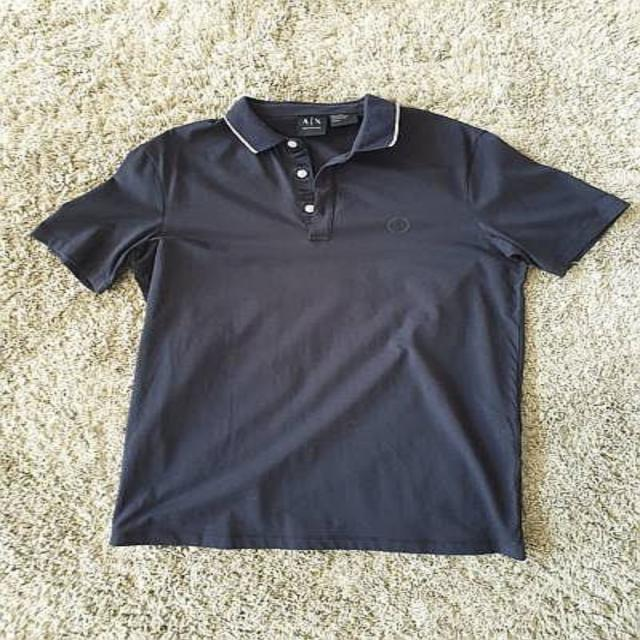T_SHIRT: (25, 69, 640, 578)
